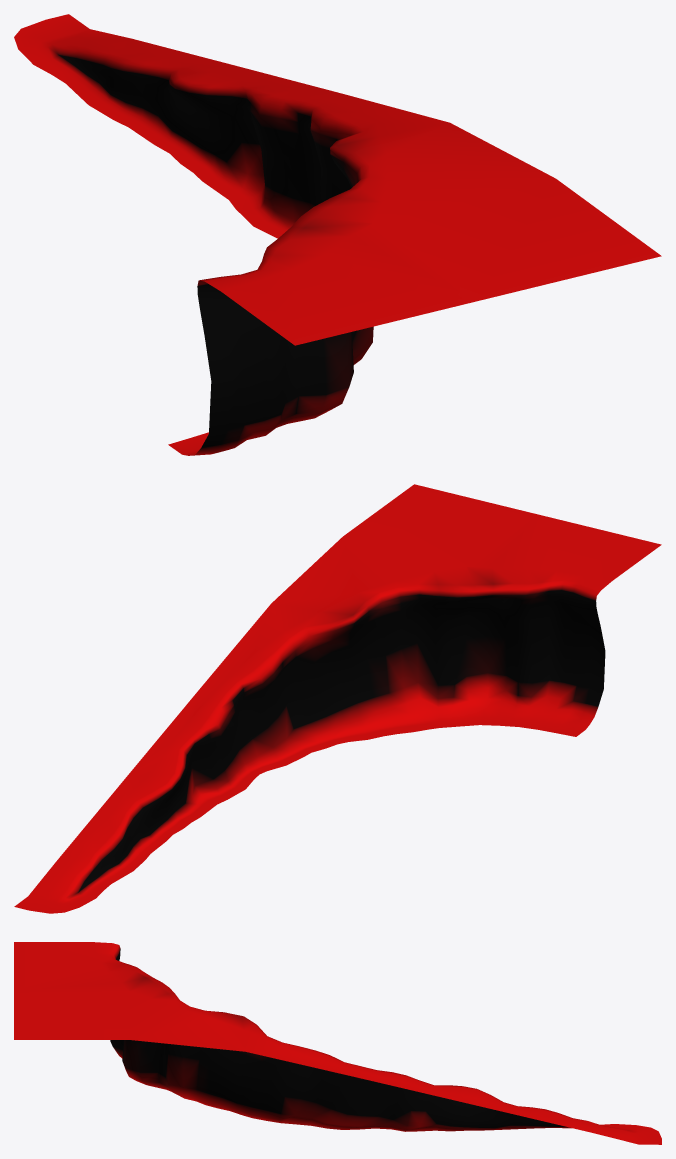
Rendered from ClimbCliff02B 1M Background.fbx.
3 views of the same model, one above another, from view 1: azimuth 30°, elevation 25°; view 2: azimuth 150°, elevation 25°; view 3: azimuth 270°, elevation 25° (orthographic). The views are drawn at different scales.
Parts seen in each view (by area): view 1: ClimbCliff02B 1M Background; view 2: ClimbCliff02B 1M Background; view 3: ClimbCliff02B 1M Background.
Part boxes in pixels (x1,y1,x2,y2): ClimbCliff02B 1M Background: [14, 14, 661, 455]; ClimbCliff02B 1M Background: [14, 484, 661, 913]; ClimbCliff02B 1M Background: [14, 942, 661, 1144].
Size of the model in its own units: 2 by 1 by 5.6.
